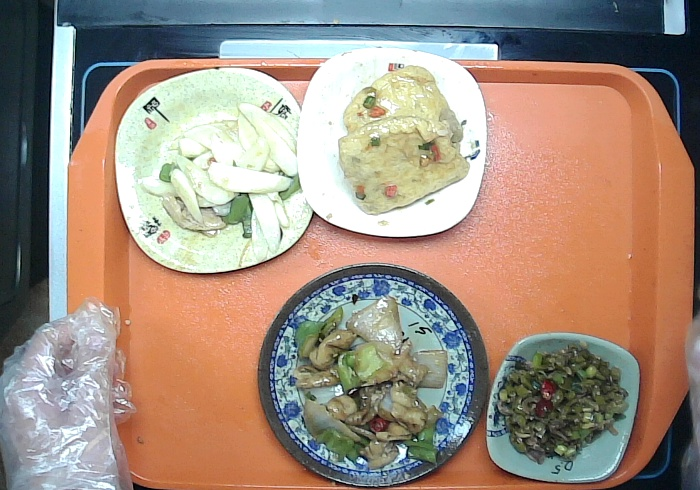NLDX-Bai_Se_Xiao_Fang_Die: (292, 44, 491, 247)
NLDX-Fu_Zi_Fang_Die: (110, 64, 321, 282)
NLDX-Qing_Hua_Xiao_Fang_Die: (480, 327, 642, 487)
NLDX-Qing_Hua_Yuan_Die: (251, 256, 491, 490)
